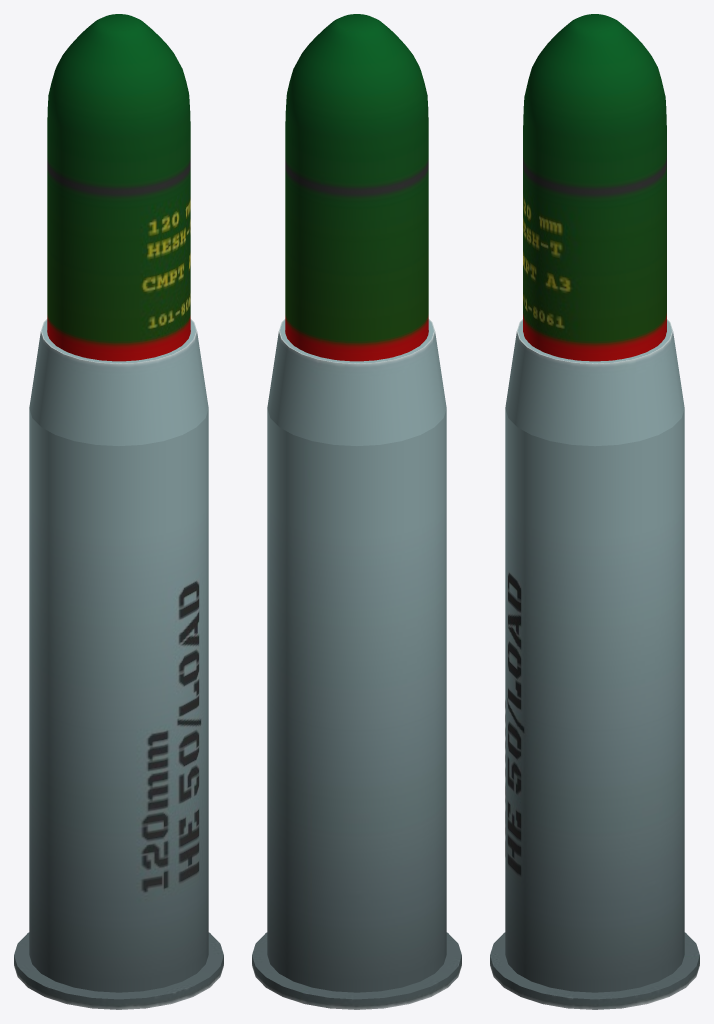
The model's file is shell.glb.
3 renders of one model, left to right at view 1: azimuth 30°, elevation 25°; view 2: azimuth 150°, elevation 25°; view 3: azimuth 270°, elevation 25°, orthographic.
Visible parts, largest first — view 1: m; view 2: m; view 3: m.
Part boxes in pixels (<box>): m: <box>14,14,223,1009</box>; m: <box>252,14,461,1009</box>; m: <box>490,14,699,1009</box>.
Bounding box in the file's own units: 0.1614 × 0.8 × 0.1614.
1 material, 1 textured.
